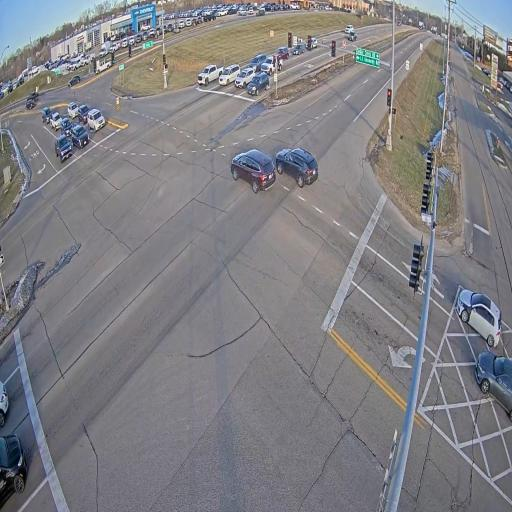pickup: (198, 64, 224, 86), (55, 135, 72, 163), (261, 55, 283, 76), (95, 59, 111, 74), (50, 112, 62, 131)
sedan: (475, 350, 512, 421), (457, 289, 501, 346), (0, 381, 9, 427), (293, 43, 306, 55), (26, 100, 35, 109)
suv: (0, 433, 28, 506), (231, 149, 276, 193), (275, 148, 319, 187), (247, 72, 270, 95), (87, 109, 105, 132), (71, 125, 89, 148), (235, 68, 255, 88), (77, 104, 89, 124), (61, 118, 73, 137), (68, 102, 78, 119), (42, 107, 52, 124), (277, 46, 289, 60), (68, 75, 81, 87), (348, 30, 357, 41), (311, 38, 317, 48)
van: (218, 64, 241, 85), (248, 54, 267, 73), (345, 25, 353, 33)
